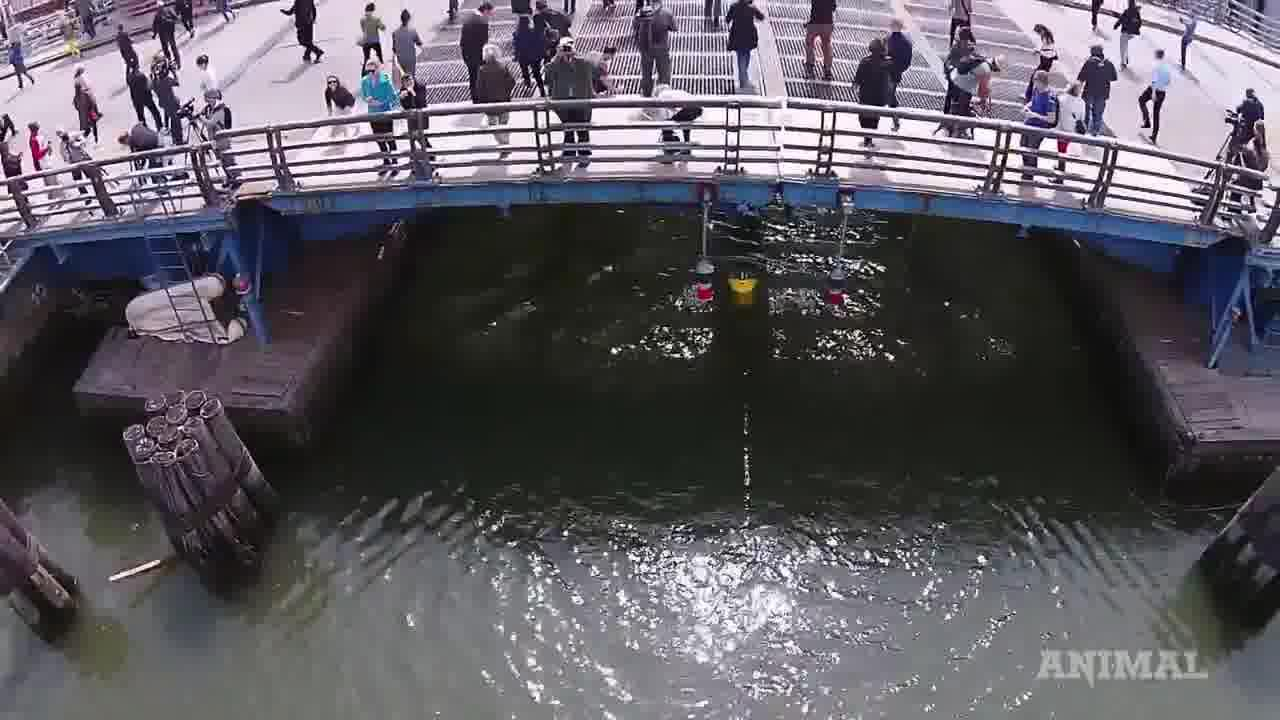human: (722, 261, 763, 301)
